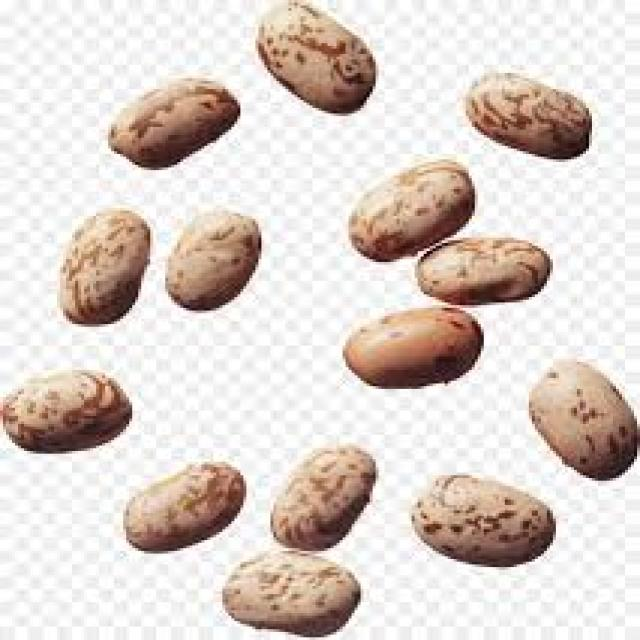Beans: (228, 0, 392, 147), (432, 62, 640, 164), (416, 448, 575, 578), (508, 344, 640, 478), (314, 156, 488, 256), (207, 534, 369, 640), (105, 446, 249, 558), (274, 418, 384, 560), (0, 350, 142, 459), (41, 191, 150, 328), (319, 298, 482, 386), (98, 66, 254, 153), (160, 204, 266, 331), (410, 218, 556, 300)
